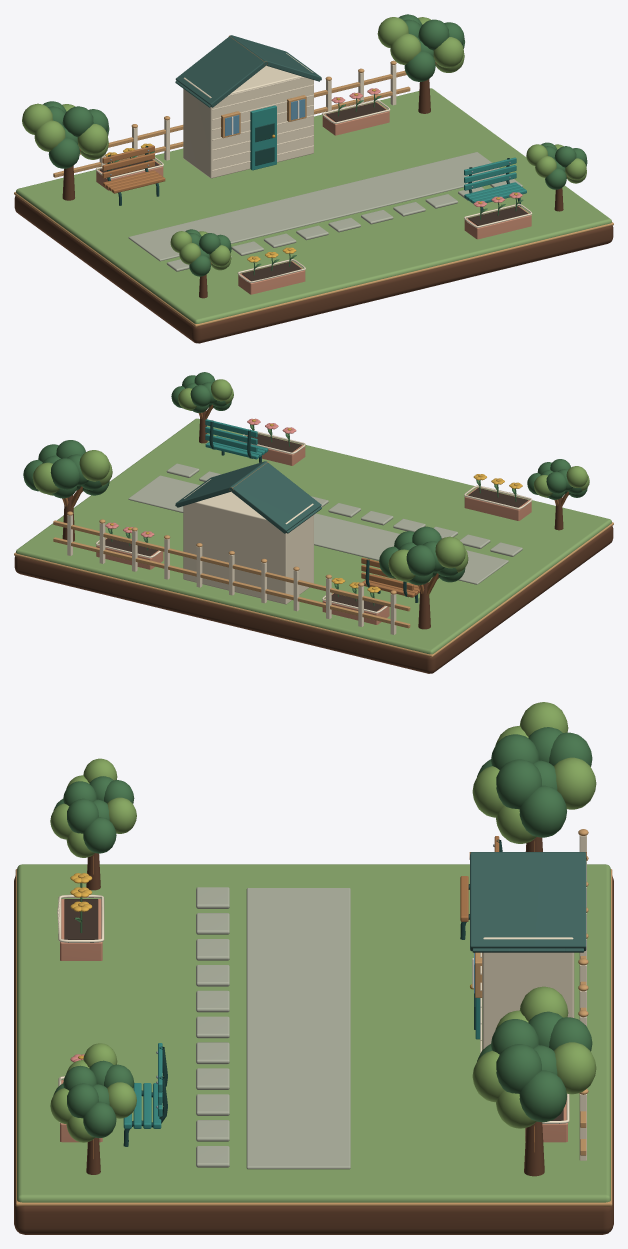
The model's file is town.glb.
The picture shows the model from 3 angles, top to bottom: view 1: azimuth 30°, elevation 25°; view 2: azimuth 150°, elevation 25°; view 3: azimuth 270°, elevation 25°; orthographic projection. The views are drawn at different scales.
Parts seen in each view (by area): view 1: Crafted_grass, Crafted_stone, Crafted_edge, Crafted_plaster, Crafted_lightleaf, Crafted_leaf, Crafted_roof, Crafted_wood_light, Crafted_cream, Crafted_ceramic, Crafted_teal, Crafted_wood (+3 smaller); view 2: Crafted_grass, Crafted_edge, Crafted_plaster, Crafted_leaf, Crafted_stone, Crafted_wood_light, Crafted_roof, Crafted_lightleaf, Crafted_cream, Crafted_ceramic, Crafted_soil, Crafted_wood (+2 smaller); view 3: Crafted_grass, Crafted_stone, Crafted_edge, Crafted_leaf, Crafted_lightleaf, Crafted_roof, Crafted_plaster, Crafted_wood_light, Crafted_cream, Crafted_ceramic, Crafted_teal, Crafted_soil (+1 smaller).
Boxes of the visible parts, <box> form: Crafted_grass: <box>16,88,611,323</box>; Crafted_stone: <box>128,152,522,271</box>; Crafted_edge: <box>14,79,613,343</box>; Crafted_plaster: <box>183,53,313,178</box>; Crafted_lightleaf: <box>22,17,586,270</box>; Crafted_leaf: <box>43,14,587,276</box>; Crafted_roof: <box>175,35,321,107</box>; Crafted_wood_light: <box>14,60,613,327</box>; Crafted_cream: <box>95,64,532,283</box>; Crafted_ceramic: <box>96,102,531,294</box>; Crafted_teal: <box>250,105,526,203</box>; Crafted_wood: <box>79,35,567,264</box>; Crafted_grass: <box>16,418,611,654</box>; Crafted_edge: <box>14,411,613,673</box>; Crafted_plaster: <box>183,479,313,604</box>; Crafted_leaf: <box>23,372,587,605</box>; Crafted_stone: <box>128,463,522,584</box>; Crafted_wood_light: <box>14,511,613,657</box>; Crafted_roof: <box>175,461,321,533</box>; Crafted_lightleaf: <box>32,379,589,595</box>; Crafted_cream: <box>67,430,532,634</box>; Crafted_ceramic: <box>96,434,531,624</box>; Crafted_soil: <box>105,434,528,611</box>; Crafted_wood: <box>62,404,568,597</box>; Crafted_grass: <box>17,864,610,1202</box>; Crafted_stone: <box>196,887,350,1169</box>; Crafted_edge: <box>14,837,613,1234</box>; Crafted_leaf: <box>53,727,592,1138</box>; Crafted_lightleaf: <box>50,702,596,1142</box>; Crafted_roof: <box>470,852,586,952</box>; Crafted_plaster: <box>482,937,574,1049</box>; Crafted_wood_light: <box>15,829,612,1206</box>; Crafted_cream: <box>57,835,586,1160</box>; Crafted_ceramic: <box>60,899,567,1142</box>; Crafted_teal: <box>123,998,480,1128</box>; Crafted_soil: <box>64,899,563,1120</box>.
Bounding box in the file's own units: 13.58 × 3.93 × 9.8.
